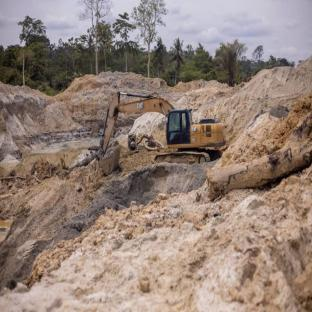ExcavationMachinery: (96, 93, 229, 176)
